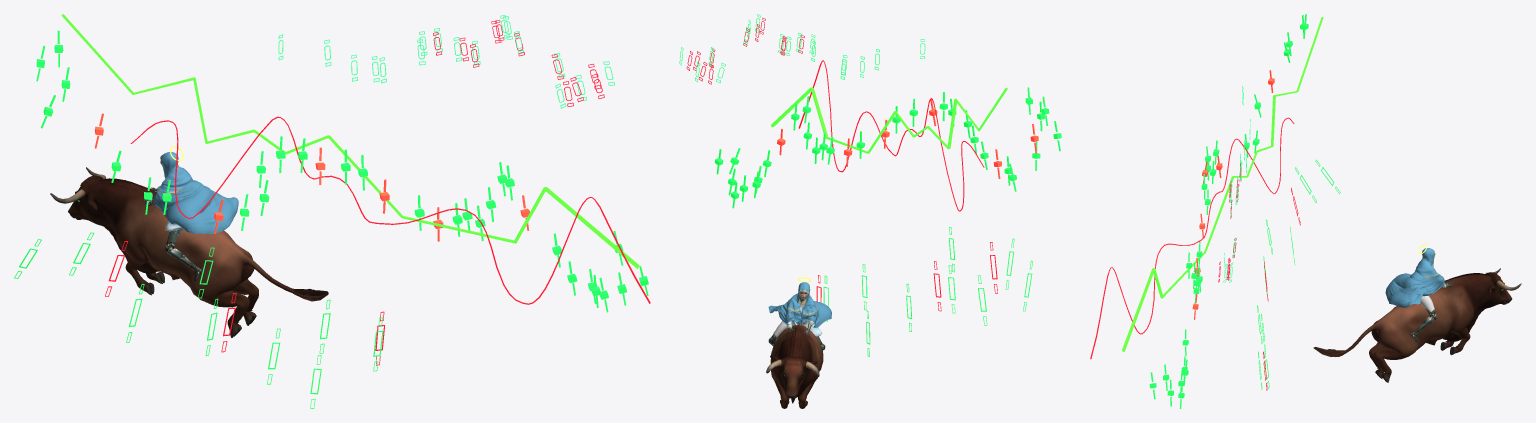
Rendered from ourlady_rider8.glb.
The picture shows the model from 3 angles, left to right: view 1: azimuth 30°, elevation 25°; view 2: azimuth 150°, elevation 25°; view 3: azimuth 270°, elevation 25°; orthographic projection. The views are drawn at different scales.
Visible parts, largest first — view 1: Object_55.007, pose.001, Line_127, RoundLine_168, Object_55.015, lady.002, Object_55.014; view 2: Object_55.007, Line_127, pose.001, RoundLine_168, Object_55.014, lady.002; view 3: Object_55.007, pose.001, Line_127, RoundLine_168, Object_55.054, Object_55.014.
Boxes of the visible parts, bbox=[...] form: Object_55.007: bbox=[88, 180, 254, 301]; pose.001: bbox=[154, 152, 238, 233]; Line_127: bbox=[61, 14, 639, 268]; RoundLine_168: bbox=[130, 116, 650, 304]; Object_55.015: bbox=[205, 290, 249, 337]; lady.002: bbox=[144, 187, 202, 282]; Object_55.014: bbox=[68, 176, 101, 224]; Object_55.007: bbox=[770, 324, 823, 401]; Line_127: bbox=[771, 87, 1007, 153]; pose.001: bbox=[768, 282, 831, 327]; RoundLine_168: bbox=[798, 60, 984, 211]; Object_55.014: bbox=[781, 357, 805, 398]; lady.002: bbox=[768, 291, 825, 354]; Object_55.007: bbox=[1371, 275, 1494, 356]; pose.001: bbox=[1385, 248, 1444, 307]; Line_127: bbox=[1122, 17, 1323, 351]; RoundLine_168: bbox=[1090, 117, 1294, 359]; Object_55.054: bbox=[1374, 348, 1407, 382]; Object_55.014: bbox=[1487, 272, 1512, 306].
Bounding box in the file's own units: 6.4 × 4.84 × 6.36.
Materials: 19 (2 with a texture image).
